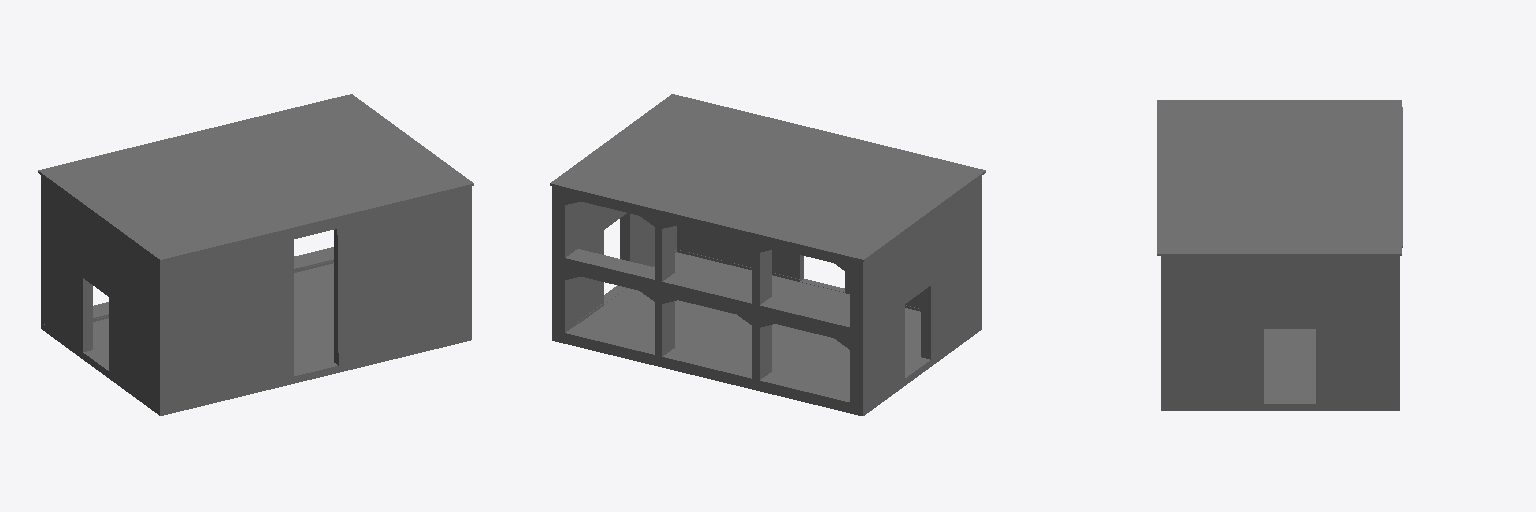
Rendered from foyer_whole.obj.
The picture shows the model from 3 angles: view 1: azimuth 30°, elevation 25°; view 2: azimuth 150°, elevation 25°; view 3: azimuth 270°, elevation 25°; orthographic projection.
Bounding box in the file's own units: 25.83 × 12.43 × 17.46.